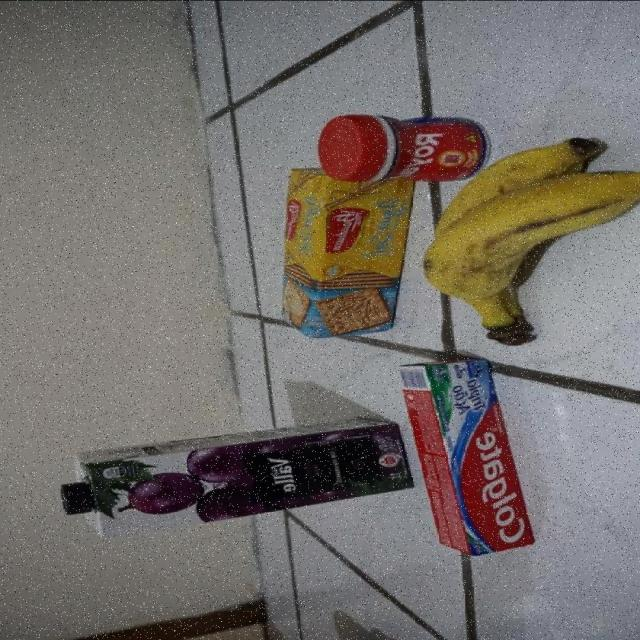Banana: (413, 184, 640, 350)
Cracker: (283, 186, 408, 338)
Toothpaste: (394, 362, 538, 560)
Yeast: (318, 112, 481, 183)
